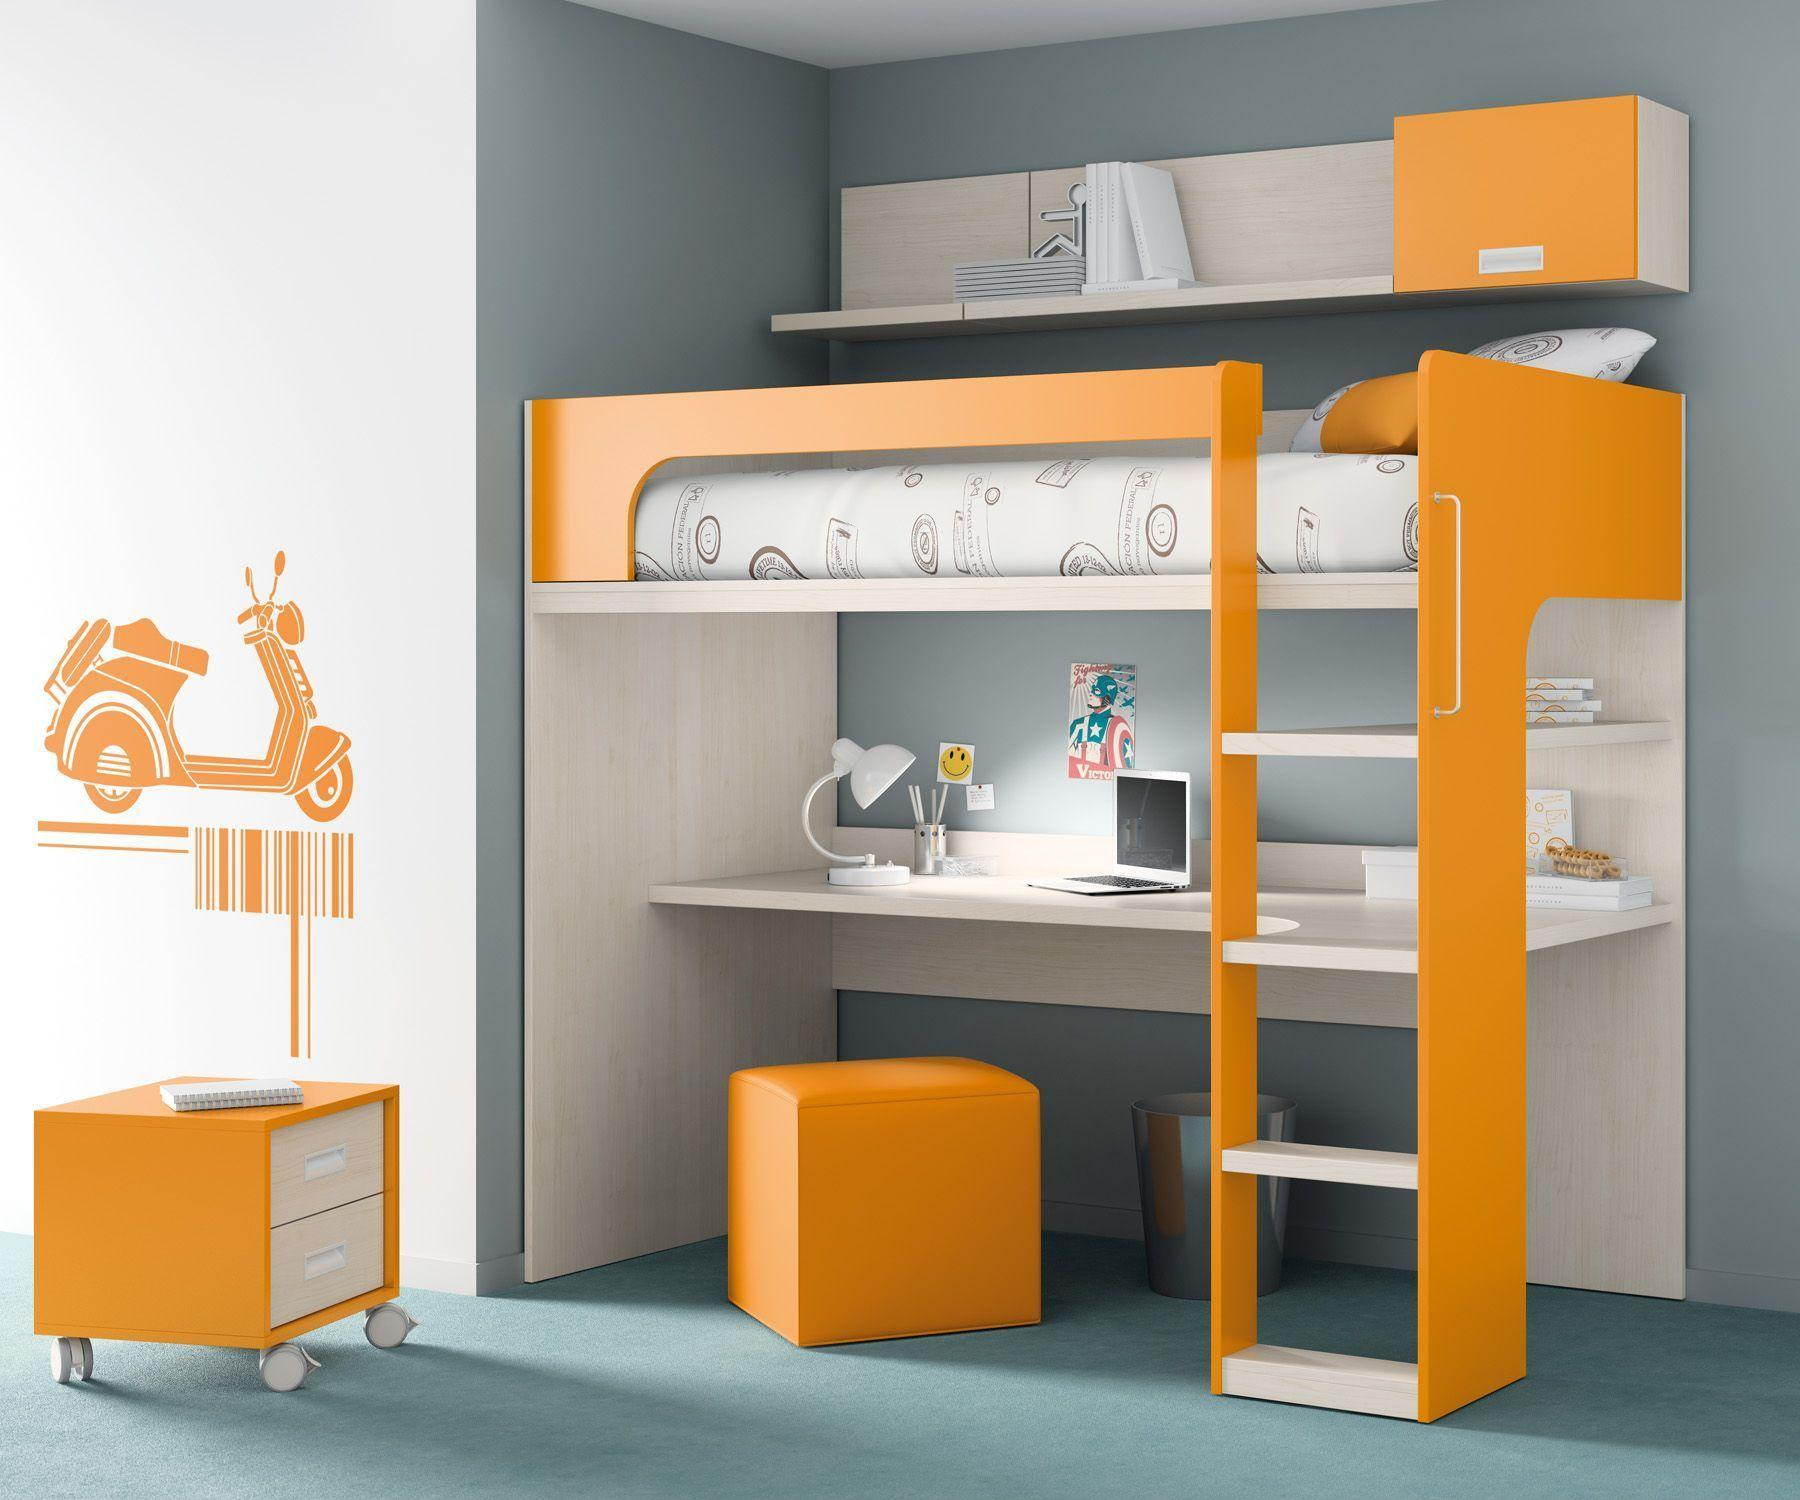bed: (474, 296, 1570, 610)
